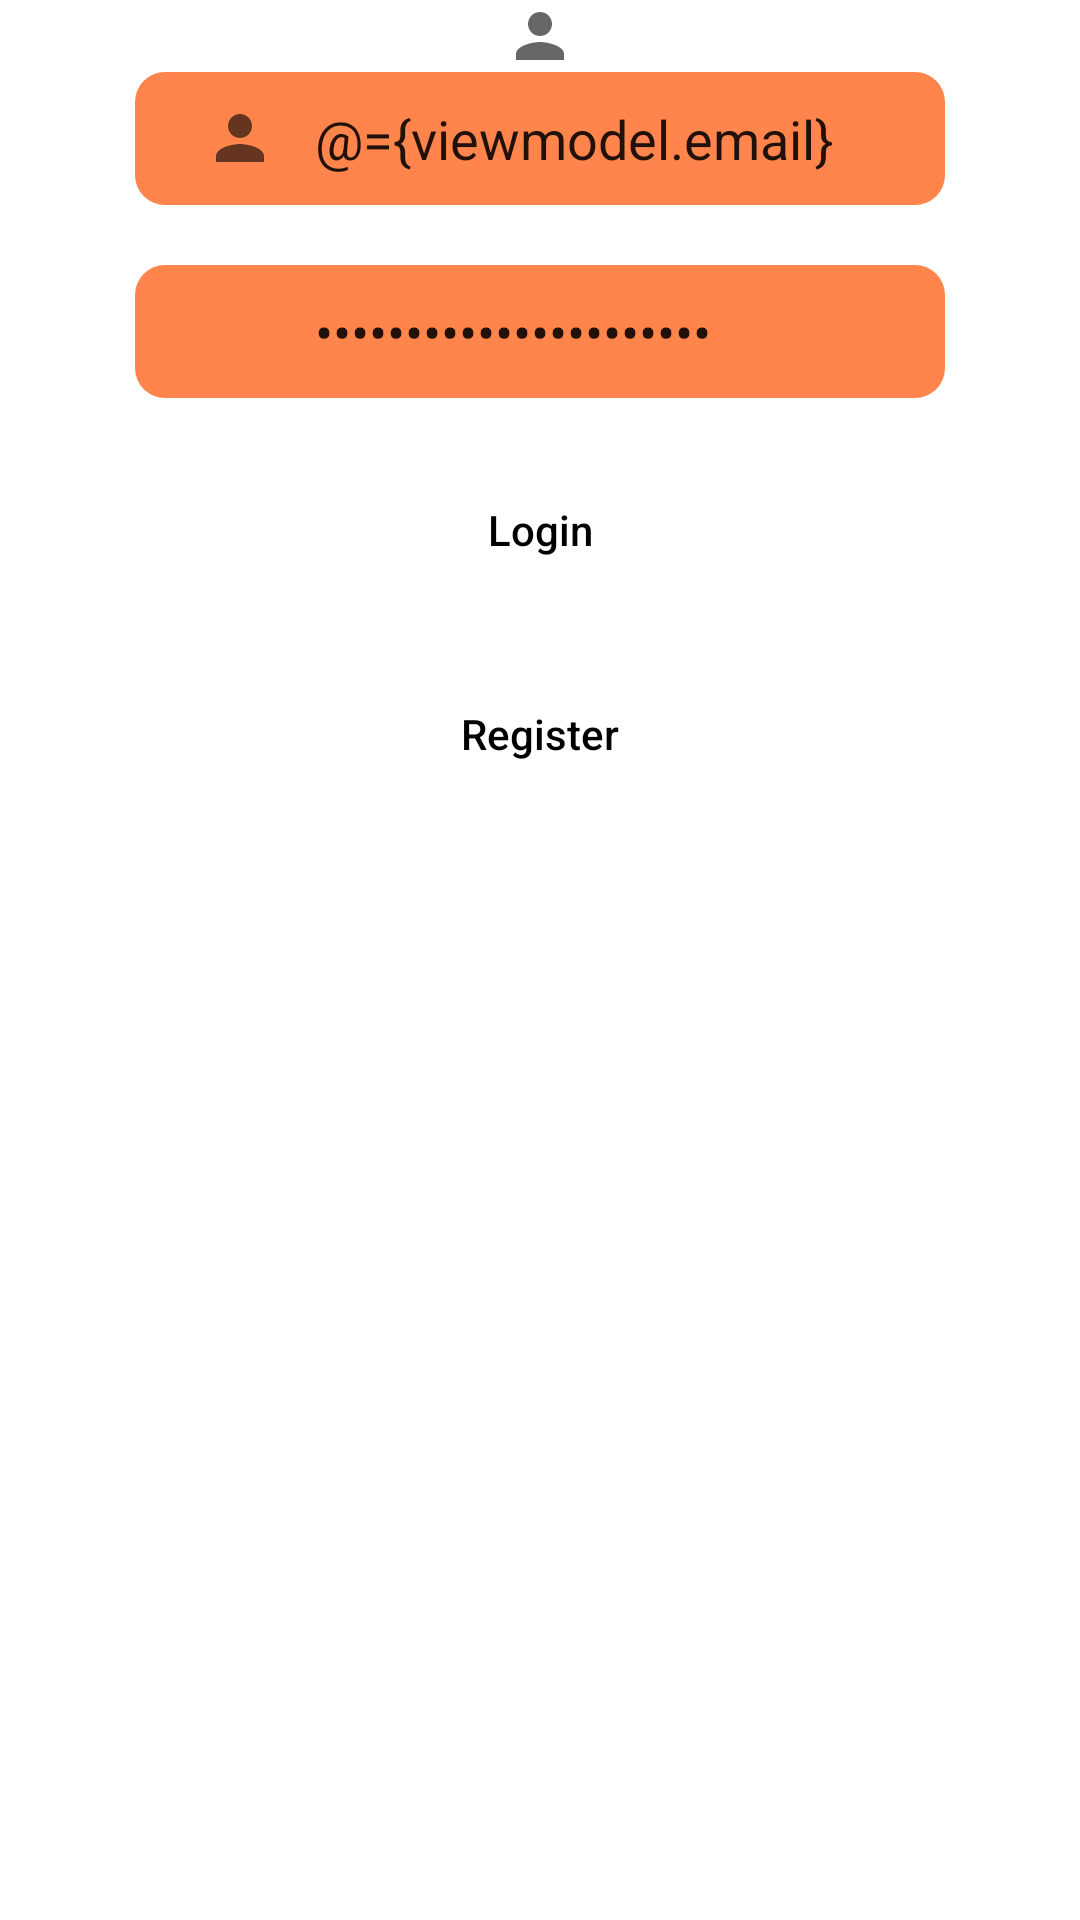

Locate icon controls on the screen. Image size 1080px x 1920px, boxes as (x1, y1, x2, y2).
person: (516, 12, 564, 60), (216, 114, 264, 162)
